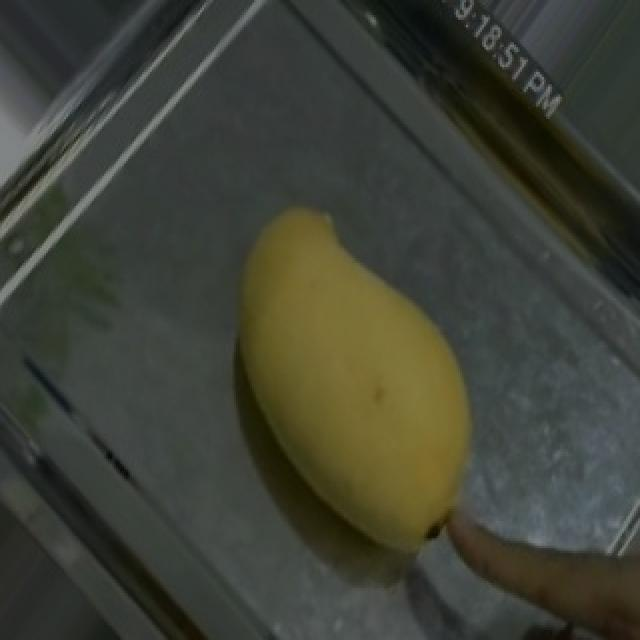fruit: (192, 171, 556, 578)
